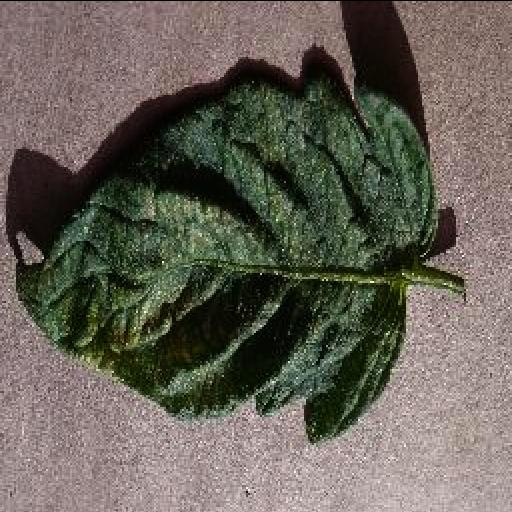disease_tomato: (14, 76, 438, 440)
